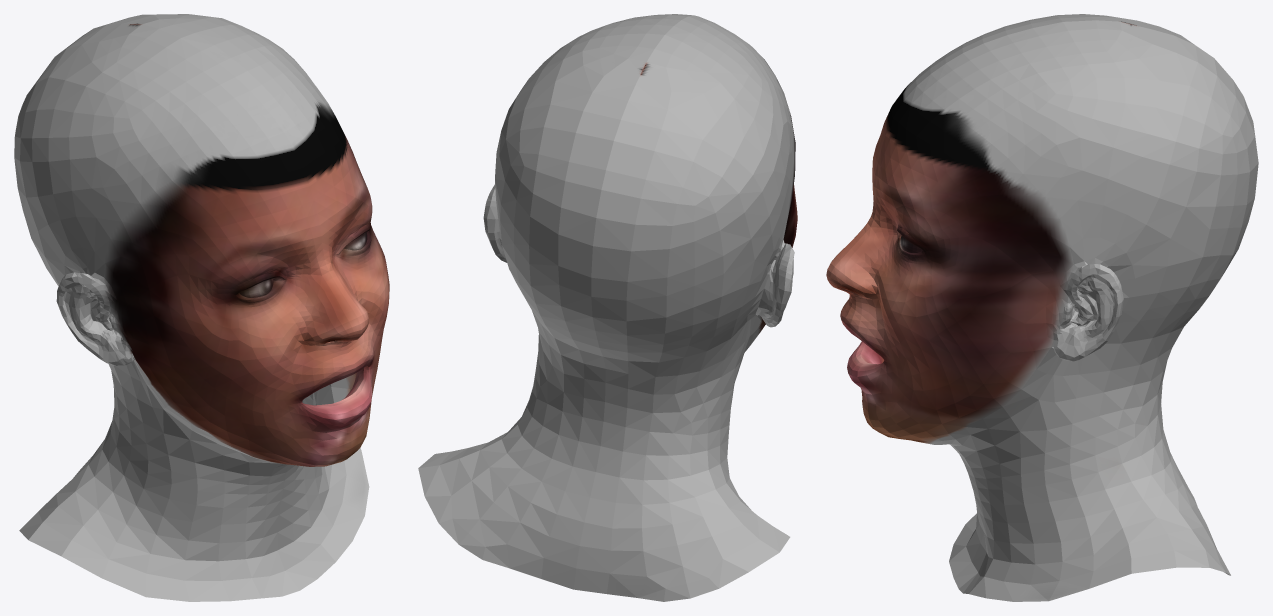
The model's file is id06692-Hlahj5abifM-002721_inputs_inputs.obj.
The picture shows the model from 3 angles, left to right: view 1: azimuth 30°, elevation 25°; view 2: azimuth 150°, elevation 25°; view 3: azimuth 270°, elevation 25°; orthographic projection. The views are drawn at different scales.
Bounding box in the file's own units: 0.204 × 0.3089 × 0.2267.
Materials: 1 (1 with a texture image).
